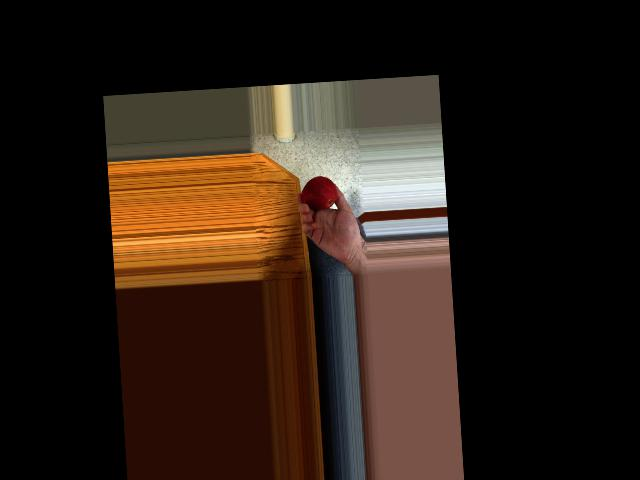apple: (301, 173, 338, 211)
